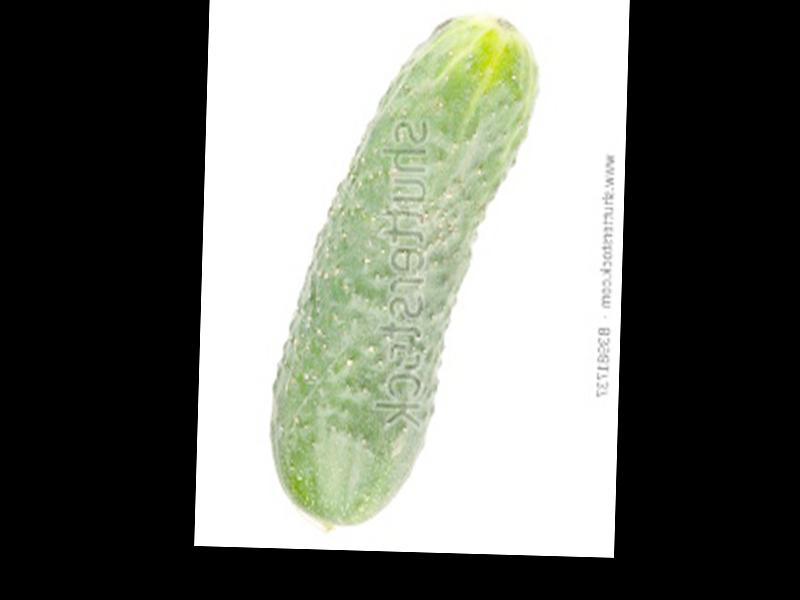Cucumber: (267, 10, 538, 533)
